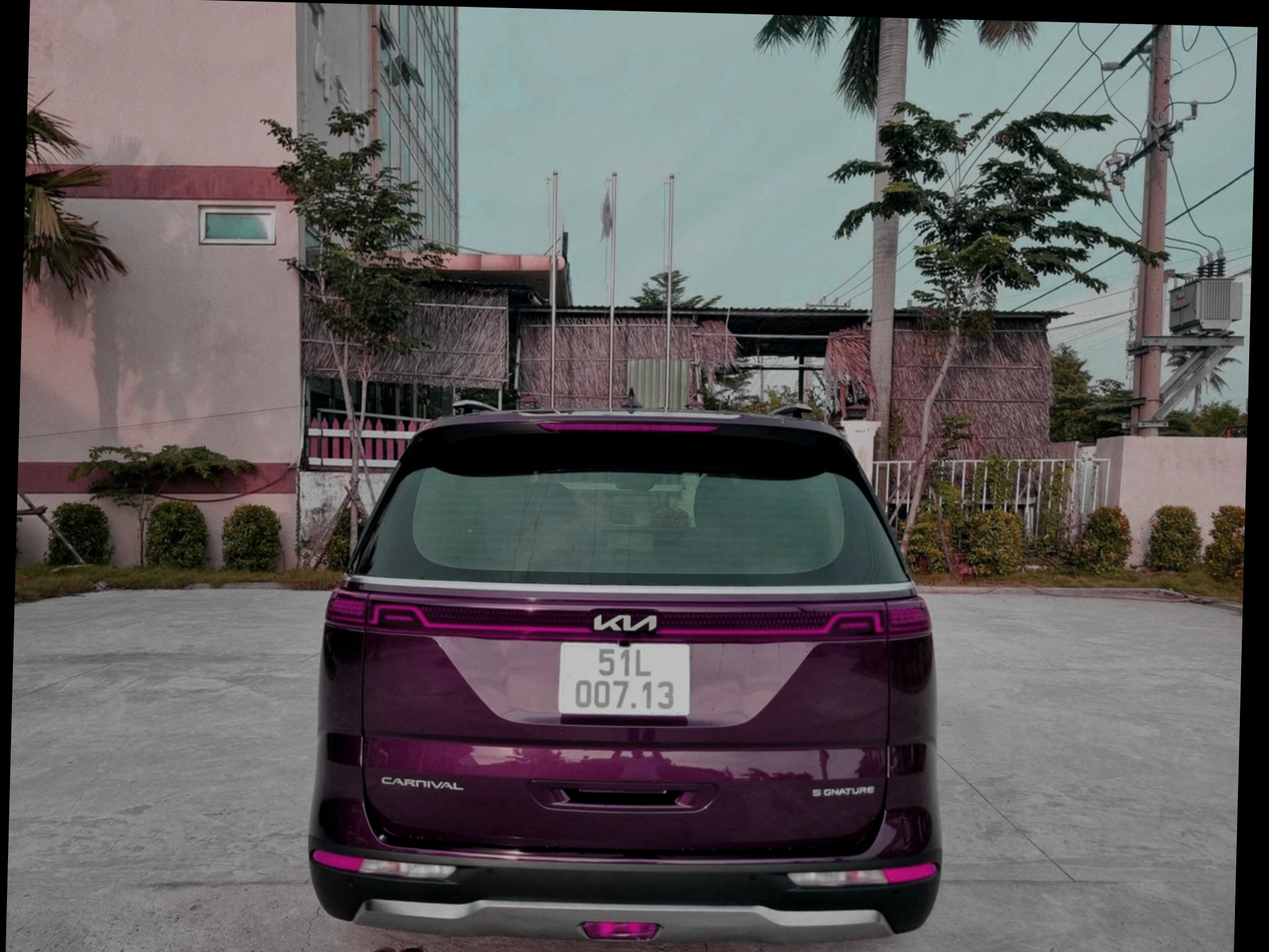Bien-so: (583, 582, 731, 672)
